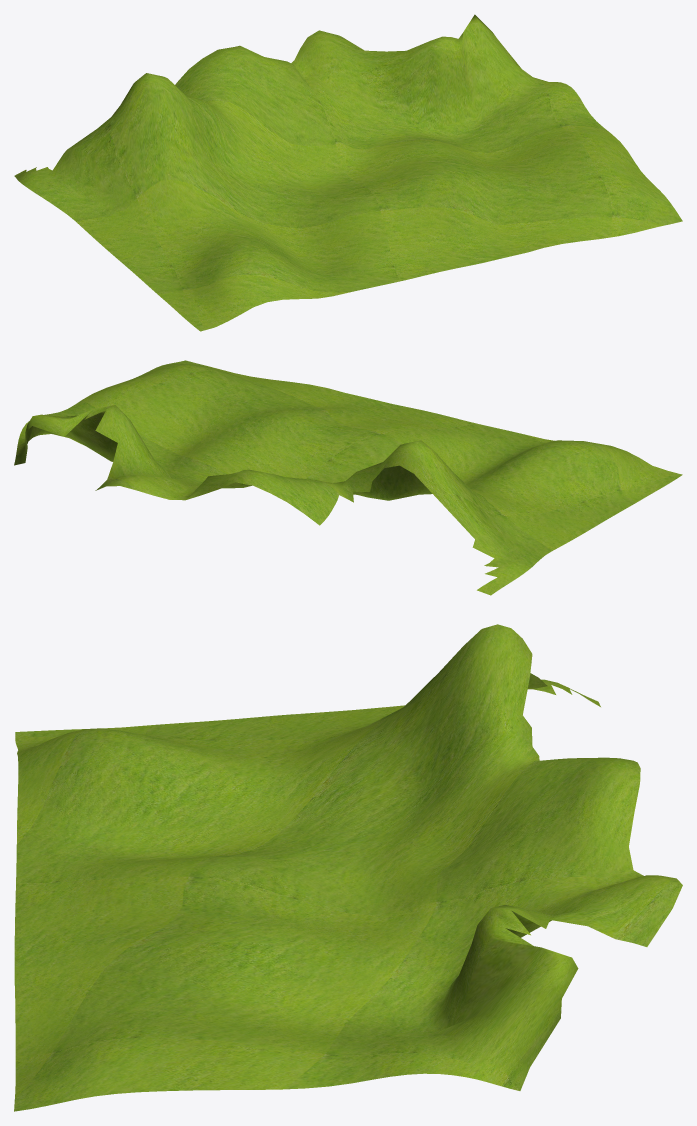
The model's file is background_mountains.glb.
3 views of the same model, one above another, from view 1: azimuth 30°, elevation 25°; view 2: azimuth 150°, elevation 25°; view 3: azimuth 270°, elevation 25° (orthographic). The views are drawn at different scales.
Visible parts, largest first — view 1: Plane; view 2: Plane; view 3: Plane.
Boxes of the visible parts, box(x1,y1,x2,y2) form: Plane: box(14, 14, 682, 331); Plane: box(14, 360, 682, 595); Plane: box(14, 624, 682, 1111).
Bounding box in the file's own units: 38.27 × 9.04 × 27.62.
1 material, 1 textured.
